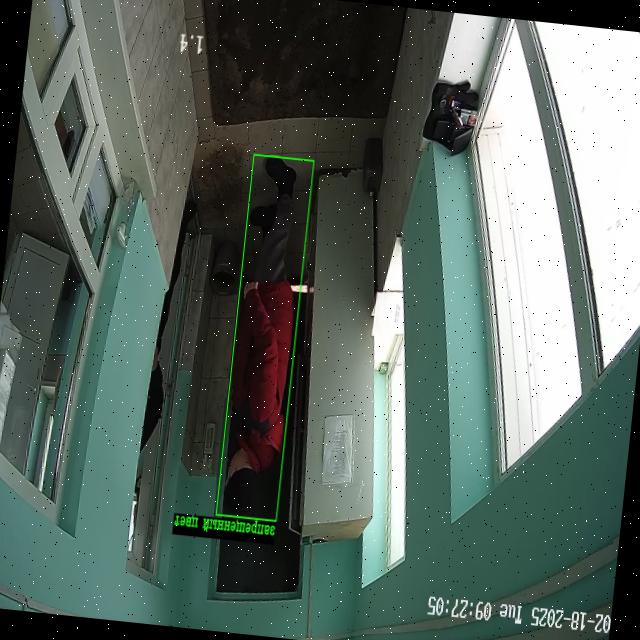Person: (139, 201, 196, 451)
Red uniform: (225, 158, 296, 515)
